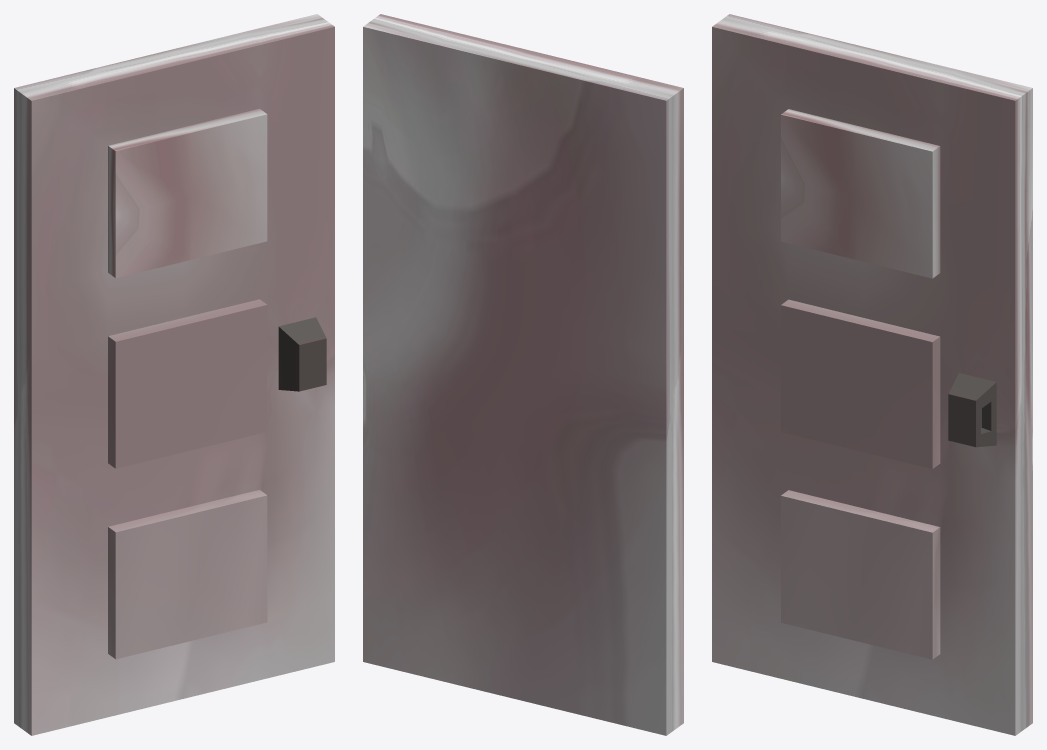
Rendered from Puerta_12.fbx.
The picture shows the model from 3 angles, left to right: view 1: azimuth 30°, elevation 25°; view 2: azimuth 150°, elevation 25°; view 3: azimuth 330°, elevation 25°; orthographic projection.
Parts seen in each view (by area): view 1: Cube.016; view 2: Cube.016; view 3: Cube.016.
Part boxes in pixels (box(x1,y1,x2,y2)): Cube.016: box(14, 14, 334, 735); Cube.016: box(363, 14, 683, 735); Cube.016: box(712, 14, 1032, 735).
Size of the model in its own units: 200 by 400 by 37.88.
